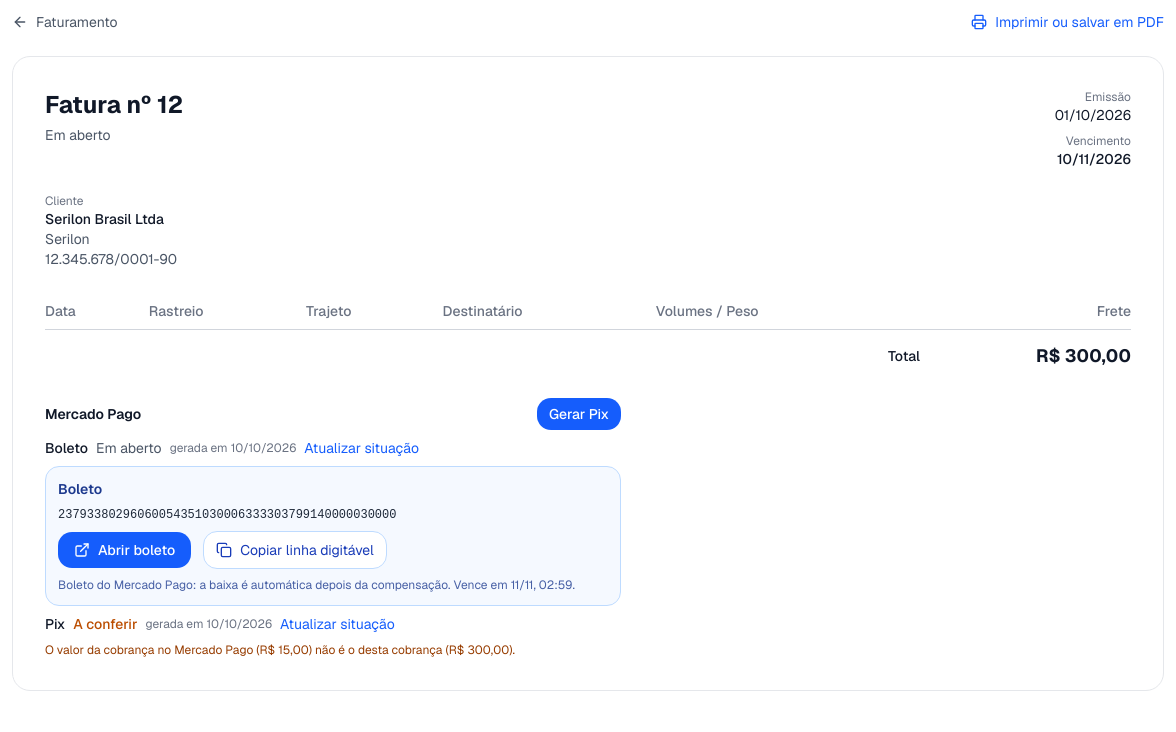
it: fatura do painel › boleto em aberto mostra link e linha digitável; Atualizar situação consulta e mostra a fatura paga; a conferir mostra o motivo
Expected: the heading "Fatura nº 12" is shown, [45,89,183,121]
Expected: the text "23793380296060054351030006333303799140000030000" is shown, [58,508,396,522]
Click the 1st button "Atualizar situação" at (362, 448), box [304,438,419,458]
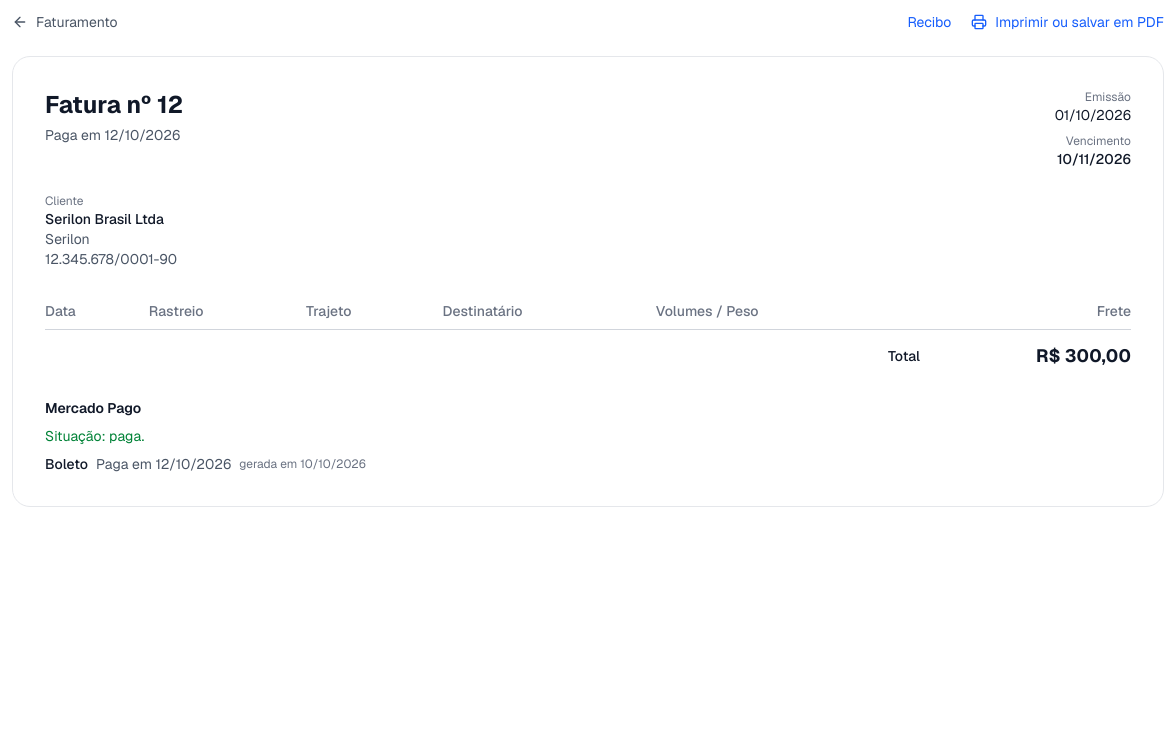
Expected: the text "Paga em 12/10/2026" next to "Boleto" is shown, [96,454,231,474]
Now the message "Situação: paga." is shown, box [45,427,144,445]
